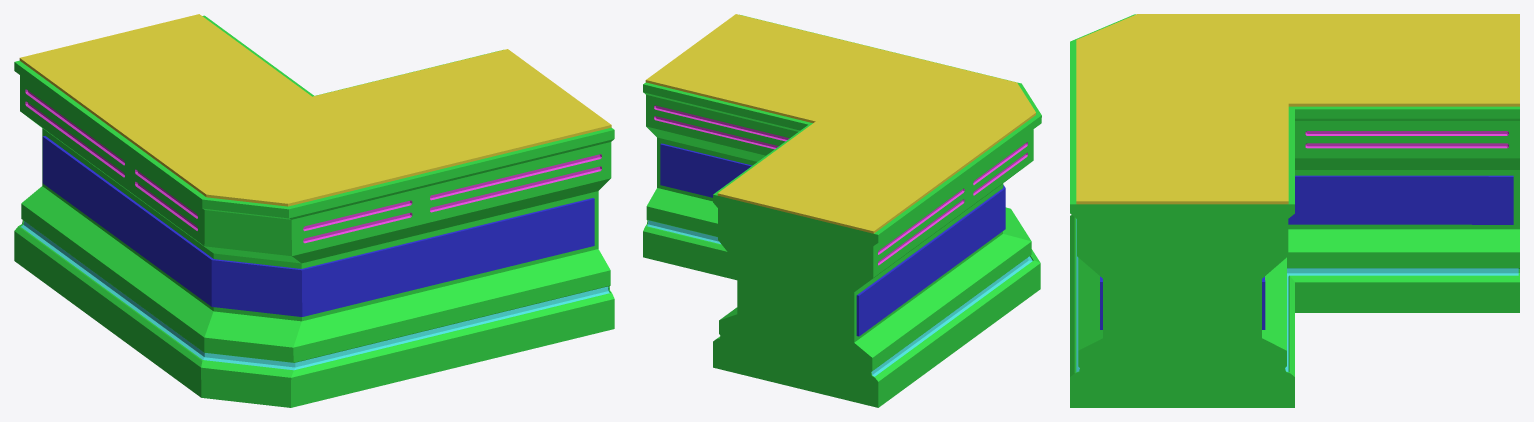
Rendered from Bar_Table_01_Corner_B.fbx.
3 renders of one model, left to right at view 1: azimuth 30°, elevation 25°; view 2: azimuth 150°, elevation 25°; view 3: azimuth 270°, elevation 25°, orthographic. The views are drawn at different scales.
Visible parts, largest first — view 1: Bar_Table_01_Corner_B; view 2: Bar_Table_01_Corner_B; view 3: Bar_Table_01_Corner_B.
Boxes of the visible parts, x1,y1,x2,y2 form: Bar_Table_01_Corner_B: [14, 14, 614, 407]; Bar_Table_01_Corner_B: [643, 14, 1041, 407]; Bar_Table_01_Corner_B: [1070, 14, 1519, 407].
Size of the model in its own units: 183 by 92.71 by 183.
